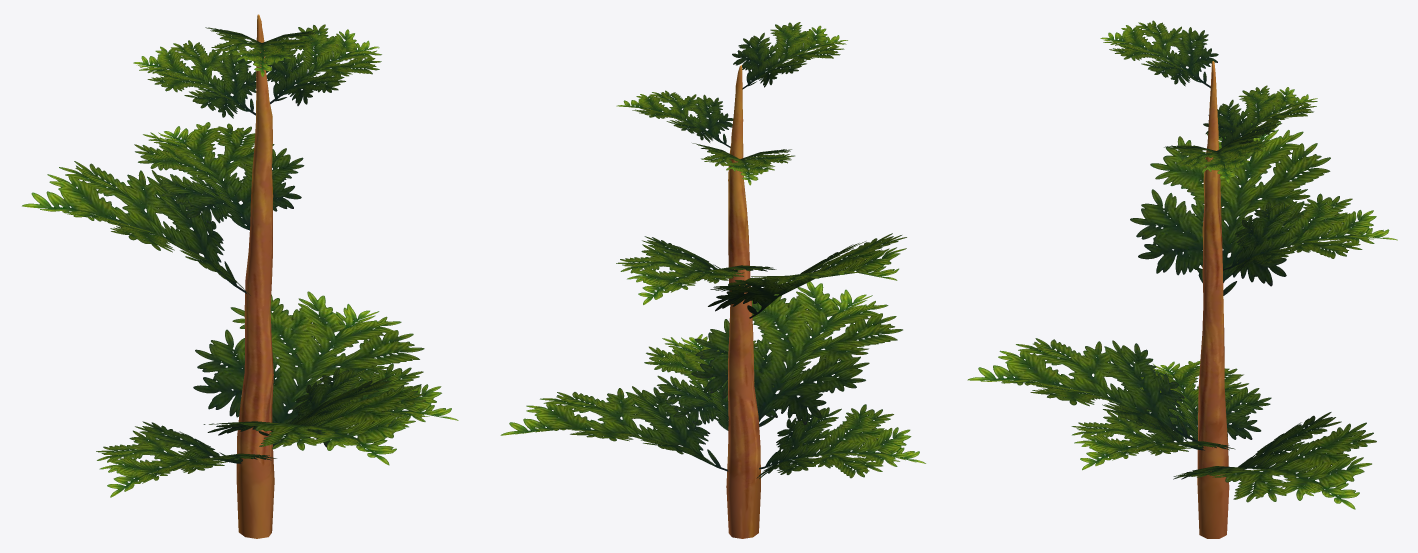
File: sapling_stylized_pine.glb
3 views of the same model, side by side, from view 1: azimuth 30°, elevation 25°; view 2: azimuth 150°, elevation 25°; view 3: azimuth 270°, elevation 25° (orthographic). The views are drawn at different scales.
Parts seen in each view (by area): view 1: sapling_stylized_pine; view 2: sapling_stylized_pine; view 3: sapling_stylized_pine.
Boxes of the visible parts, box(x1,y1,x2,y2) form: sapling_stylized_pine: box(22, 14, 458, 538); sapling_stylized_pine: box(500, 22, 925, 538); sapling_stylized_pine: box(967, 20, 1397, 538).
Size of the model in its own units: 141 by 171 by 143.
2 materials, 2 textured.
